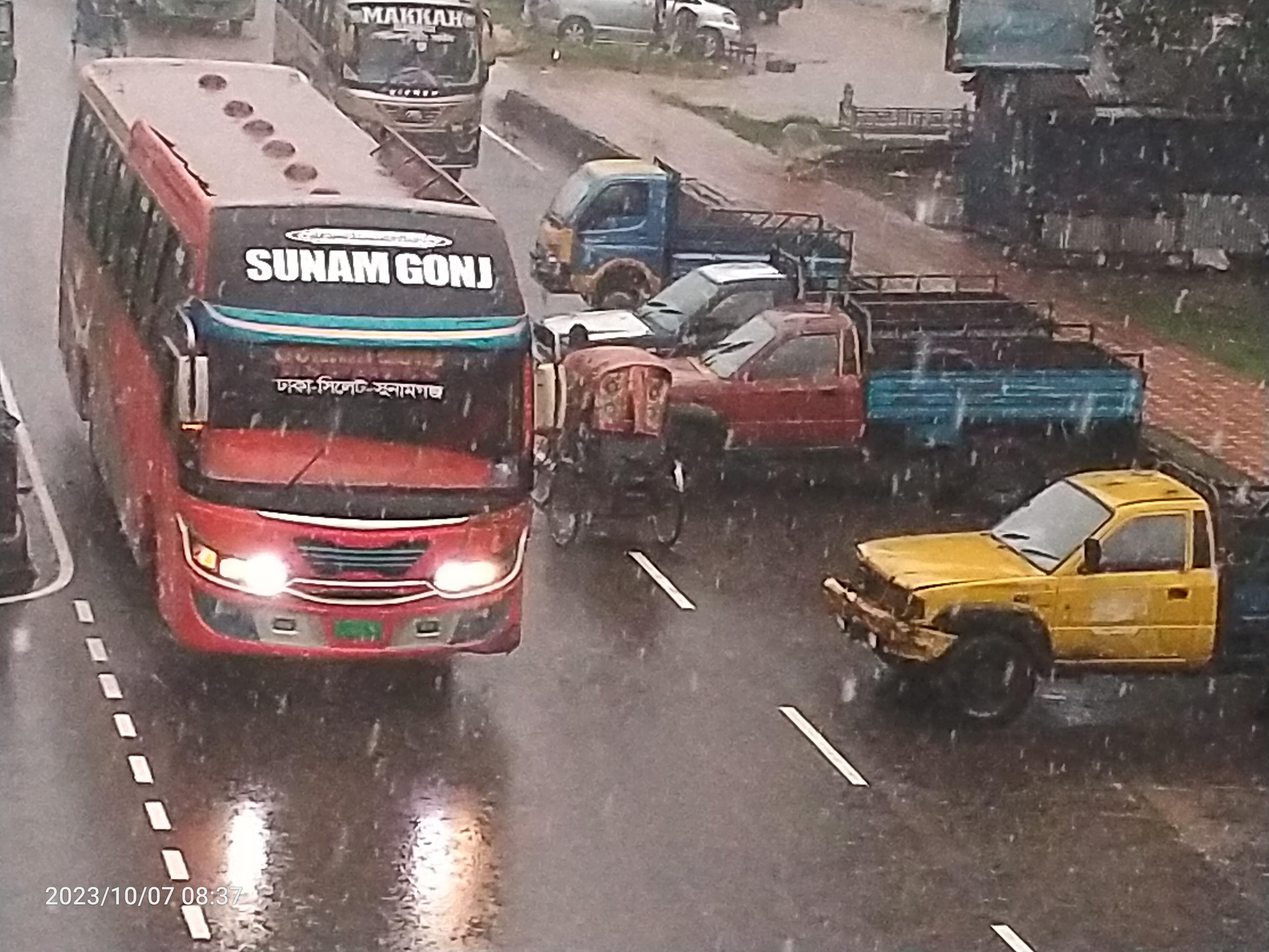Bus: (20, 24, 582, 777), (239, 0, 529, 205)
Car: (532, 293, 702, 613), (650, 0, 752, 75)
Truck: (619, 293, 1207, 553), (808, 444, 1269, 764), (523, 241, 1042, 382), (512, 128, 879, 315)
